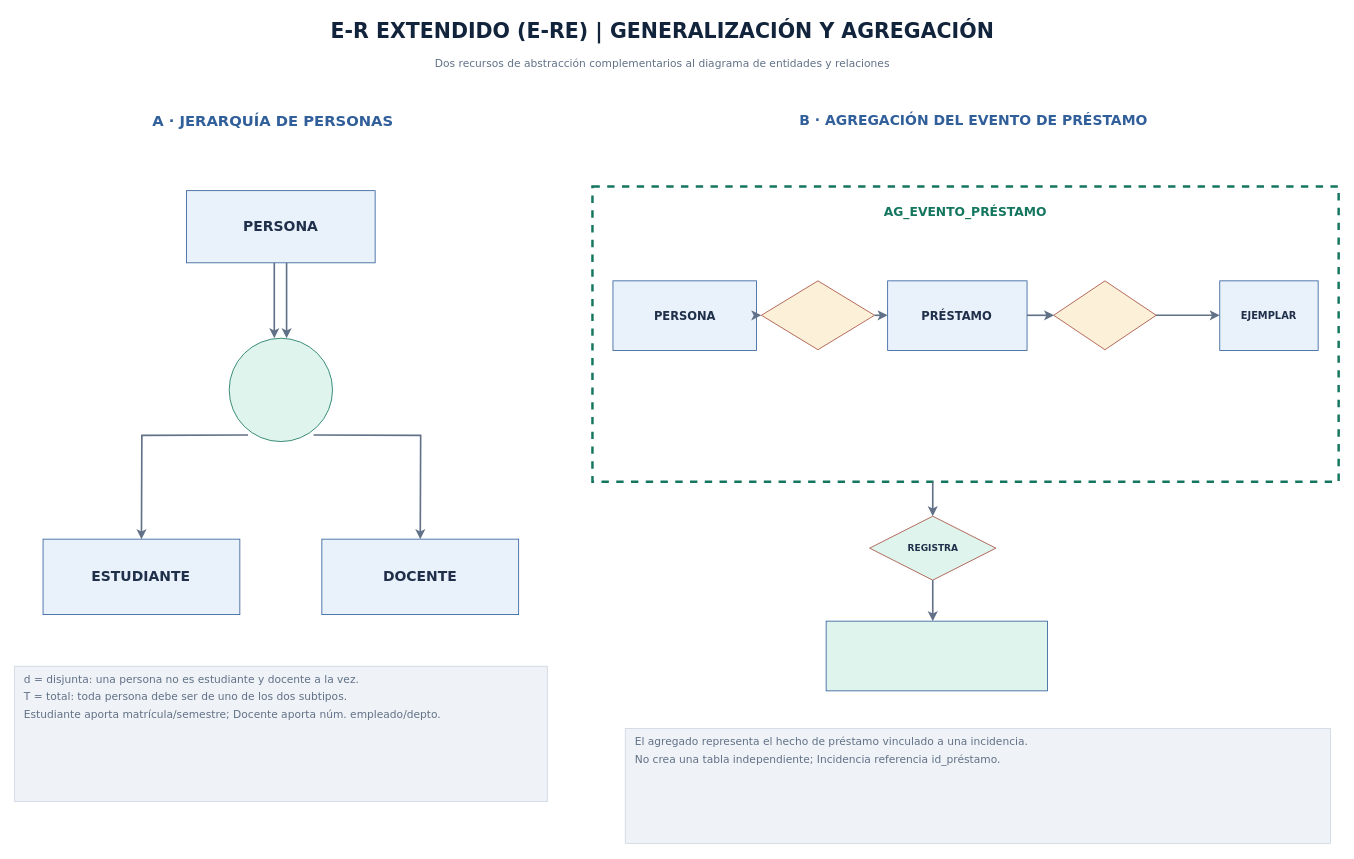
This 1354x859 diagram has some shape labels left out. The centre of each missing label's shape, as x and y in pixels:
"INCIDENCIA" belongs at point 936,655.
"ISA d / T" belongs at point 280,389.
"REALIZA" belongs at point 818,315.
"SOBRE" belongs at point 1104,315.
